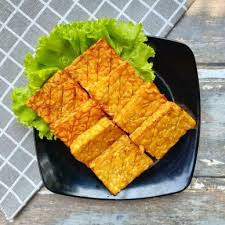Tempe goreng: (86, 133, 158, 196), (127, 101, 200, 158), (23, 71, 96, 123), (112, 81, 171, 134), (89, 60, 147, 112), (64, 40, 128, 85), (69, 116, 126, 165), (48, 102, 111, 146)
